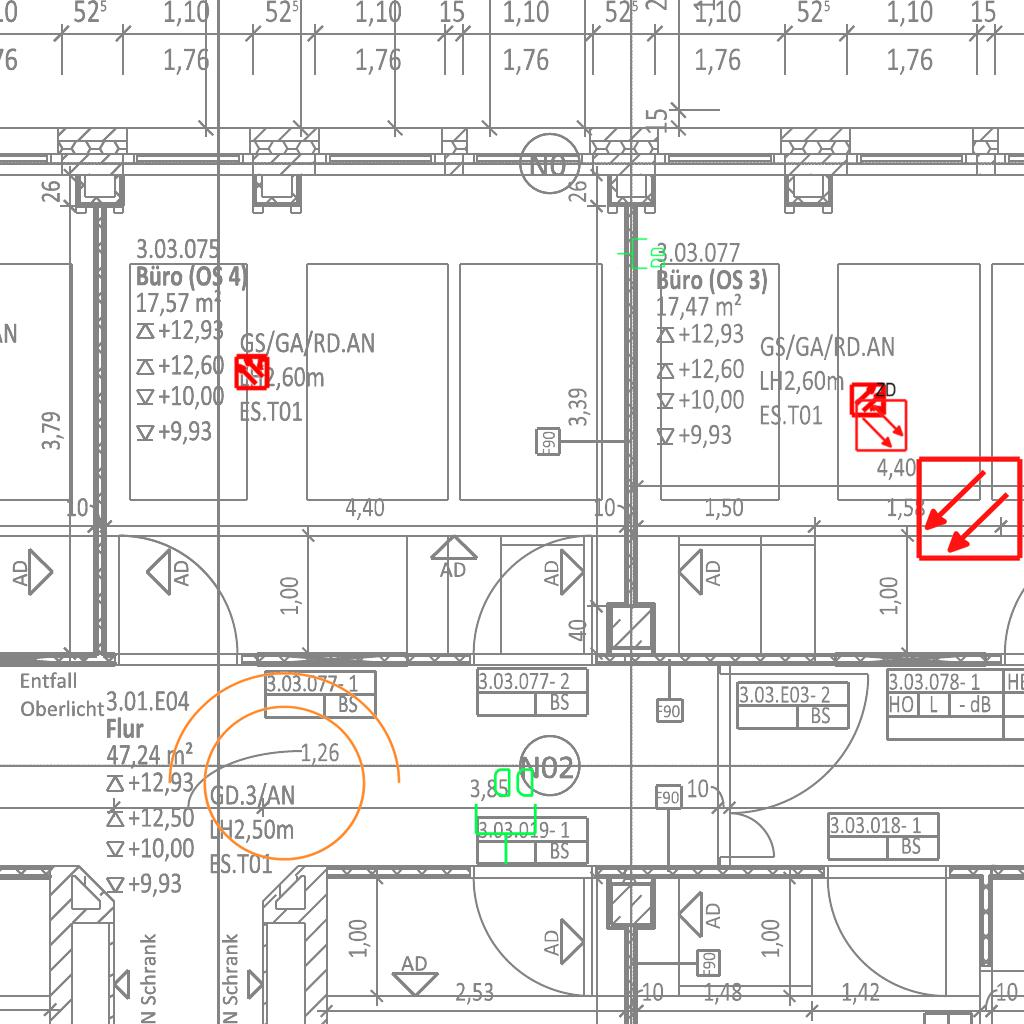Datenanschluss_zweifach: (472, 764, 541, 867), (616, 237, 667, 271)
OT_Multisensormelder_(Kombination_RMO_WMD): (841, 372, 897, 428), (224, 343, 280, 399)
Scheinwerfer_fuer_Alarmbeleuchtung: (146, 661, 410, 886)
ZD_Melder_in_Zwischendecke_mit_Revisionsoeffnung_mind_40_x_40_cm: (914, 450, 1024, 564), (852, 379, 909, 453)
